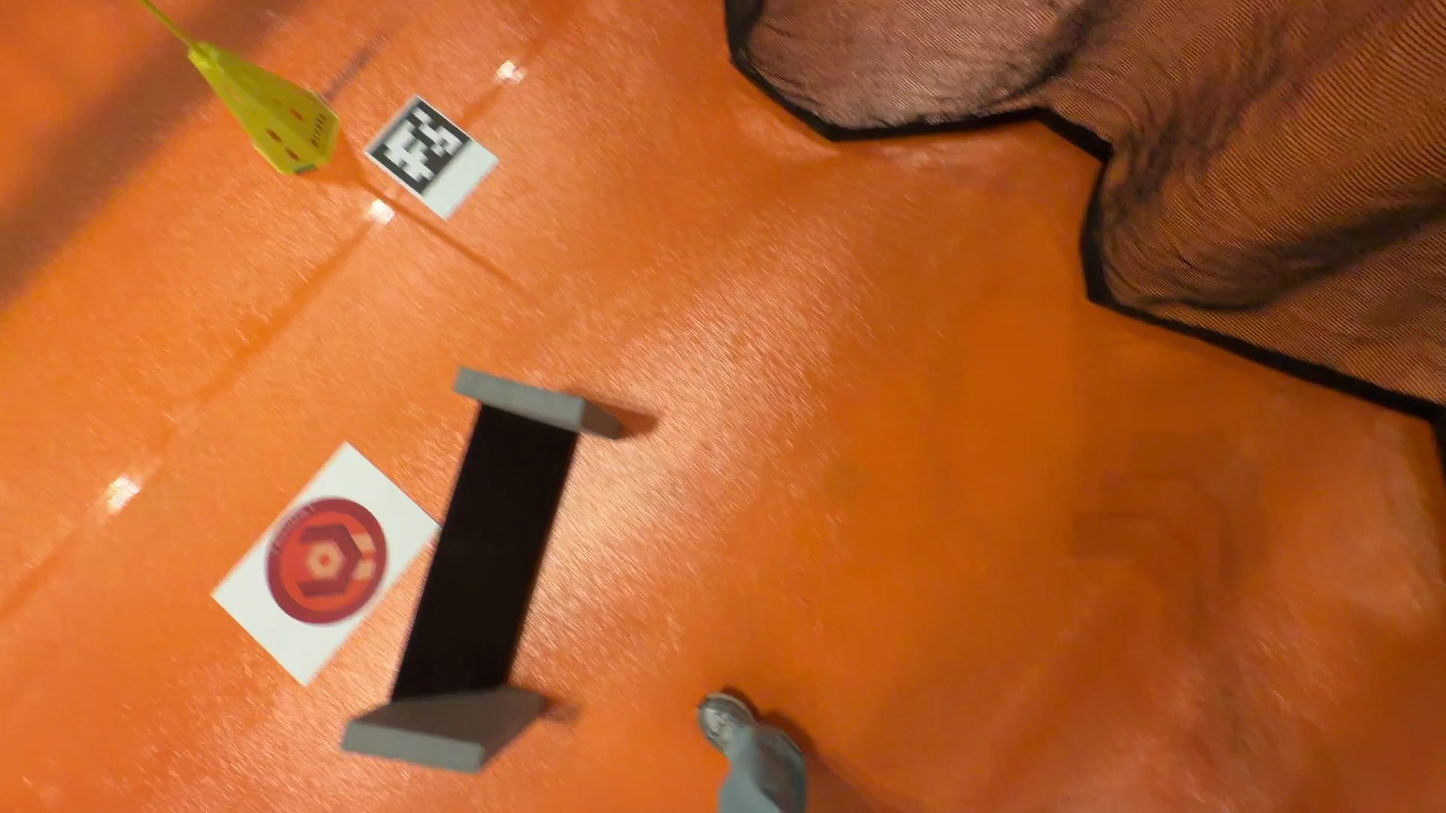landing_pad: (264, 496, 390, 634)
